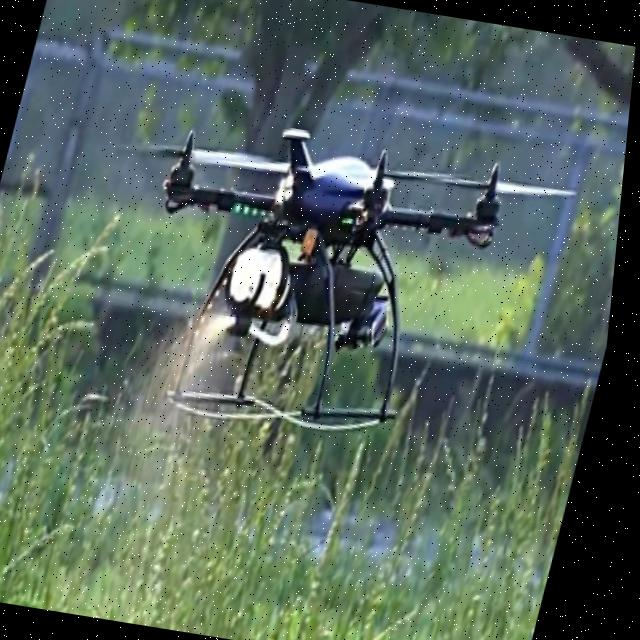drones: (60, 76, 600, 482)
